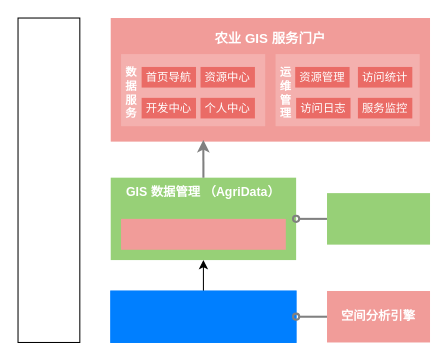
Some shapes in this 448 by 361 pixel diagram are drawn without their labels. Each missing label, with the centre of its shape:
"AgriMapServer" belongs at pixel 378 218.
"耕地算法工具" belongs at pixel 203 233.
"臻善数据中台" belongs at pixel 203 316.
